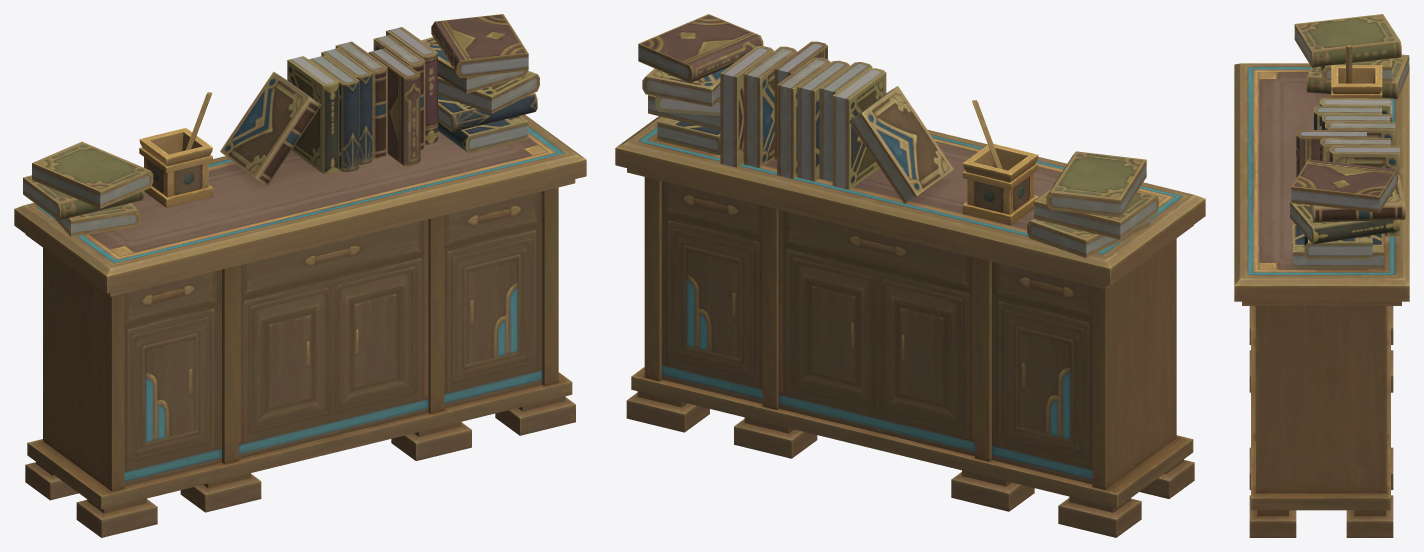
File: Homeworld_Interior_Fd_Cabinet_Prop_Shugui_01_Vo.fbx
3 views of the same model, side by side, from view 1: azimuth 30°, elevation 25°; view 2: azimuth 150°, elevation 25°; view 3: azimuth 270°, elevation 25° (orthographic). The views are drawn at different scales.
Visible parts, largest first — view 1: Indoor_Fd_Prop_Cabinet_A_01_Vo; view 2: Indoor_Fd_Prop_Cabinet_A_01_Vo; view 3: Indoor_Fd_Prop_Cabinet_A_01_Vo.
Part boxes in pixels (<box>): Indoor_Fd_Prop_Cabinet_A_01_Vo: <box>14,14,586,537</box>; Indoor_Fd_Prop_Cabinet_A_01_Vo: <box>615,14,1205,537</box>; Indoor_Fd_Prop_Cabinet_A_01_Vo: <box>1234,14,1409,537</box>.
Bounding box in the file's own units: 2.23 × 1.63 × 0.7454.
